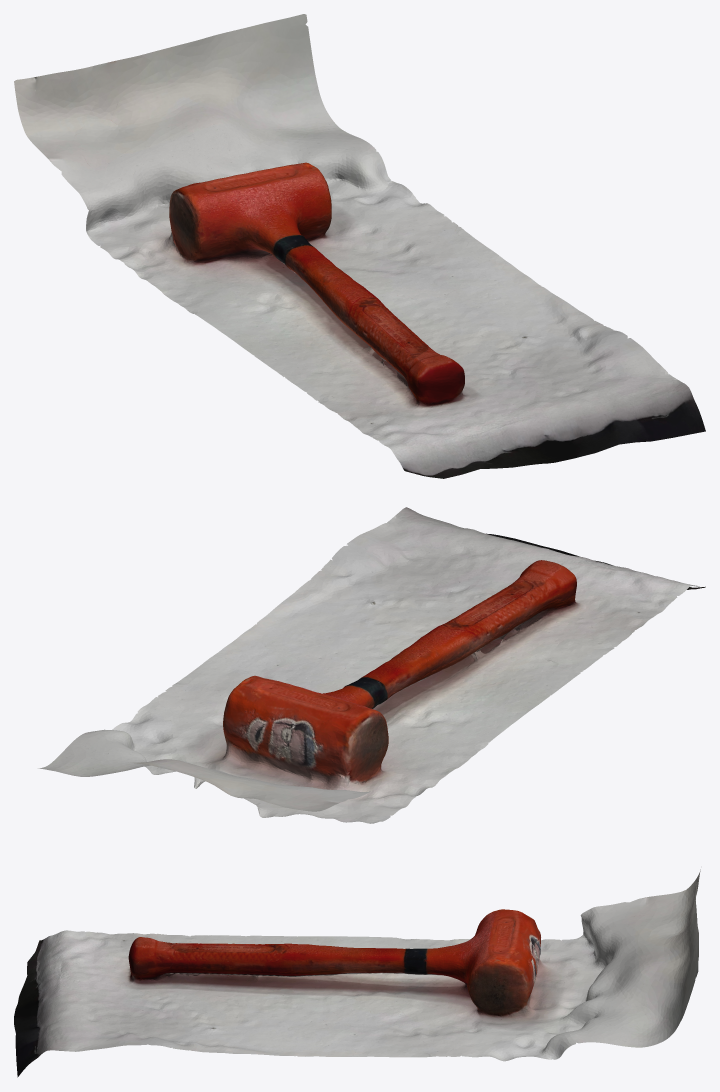
3 views of the same model, one above another, from view 1: azimuth 30°, elevation 25°; view 2: azimuth 150°, elevation 25°; view 3: azimuth 270°, elevation 25° (orthographic). The views are drawn at different scales.
Bounding box in the file's own units: 0.2316 × 0.0966 × 0.5662.
1 material, 1 textured.
